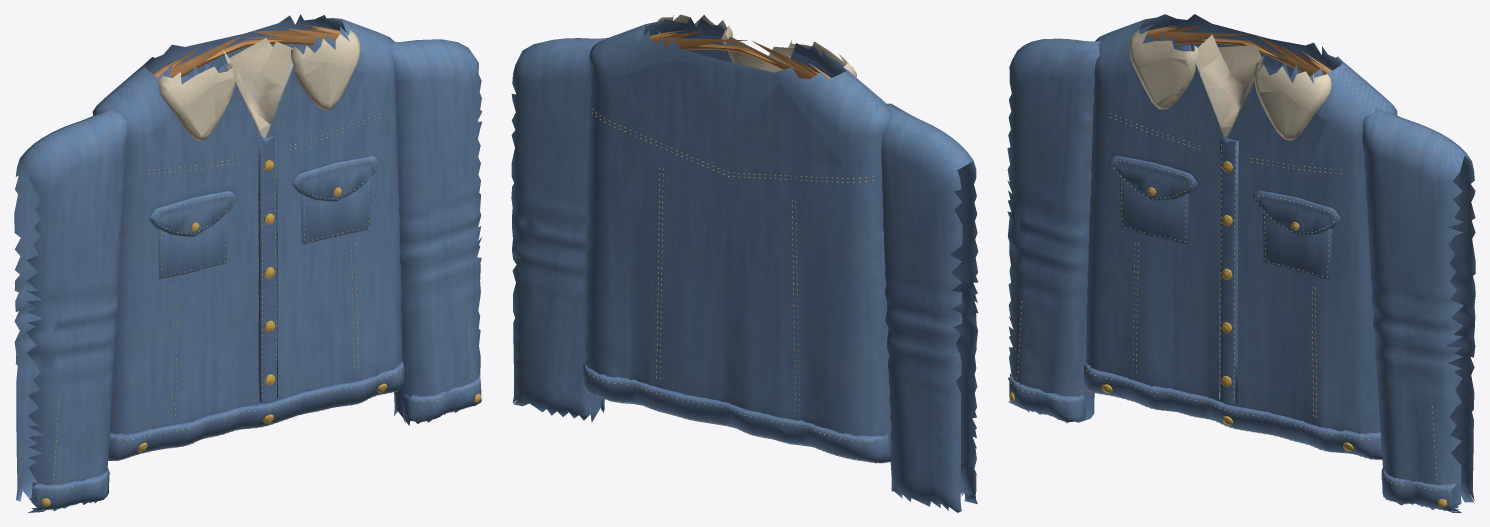
File: gomlek.glb
3 views of the same model, side by side, from view 1: azimuth 30°, elevation 25°; view 2: azimuth 150°, elevation 25°; view 3: azimuth 330°, elevation 25° (orthographic).
Visible parts, largest first — view 1: gomlek; view 2: gomlek; view 3: gomlek.
Boxes of the visible parts, x1,y1,x2,y2 form: gomlek: (14,14,481,512); gomlek: (511,14,978,512); gomlek: (1007,14,1475,512).
Size of the model in its own units: 0.7779 by 0.6845 by 0.1172.
1 material, 1 textured.
